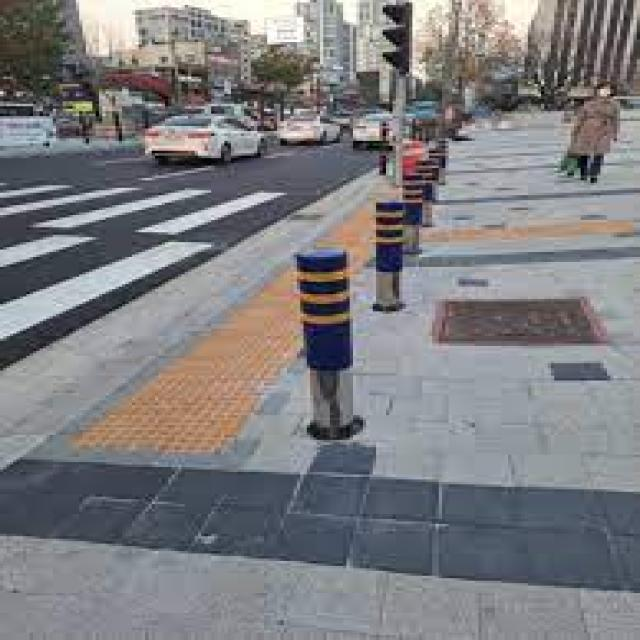bollard: (284, 238, 364, 440), (356, 193, 411, 321), (392, 175, 432, 265), (412, 156, 438, 241)
